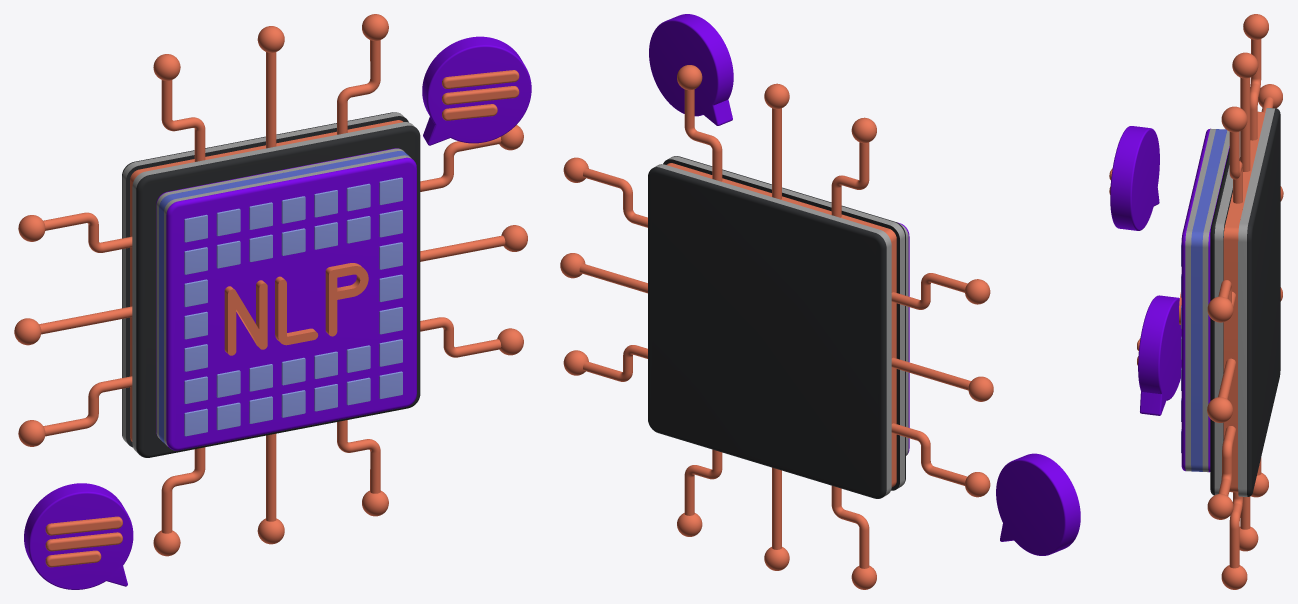
The model's file is natural-language-processing-3d-animated-icon-616079803988.glb.
The picture shows the model from 3 angles, left to right: view 1: azimuth 30°, elevation 25°; view 2: azimuth 150°, elevation 25°; view 3: azimuth 270°, elevation 25°; orthographic projection. The views are drawn at different scales.
Visible parts, largest first — view 1: Cube.003, Cube, Pin, Cube.002, Cylinder.003, Cylinder.001, Curve.001, Cube.005, Cube.024, Cube.004, Cube.023, Cube.001 (+1 smaller); view 2: Cube, Pin, Cylinder.001, Cylinder.003, Cube.003; view 3: Cube, Pin, Cube.003, Cylinder.003, Cylinder.001.
Part boxes in pixels (x1=…): Cube.003: x1=156, y1=148, x2=416, y2=450; Cube: x1=122, y1=112, x2=420, y2=457; Pin: x1=14, y1=14, x2=527, y2=556; Cube.002: x1=184, y1=177, x2=402, y2=436; Cylinder.003: x1=422, y1=36, x2=531, y2=145; Cylinder.001: x1=24, y1=483, x2=133, y2=589; Curve.001: x1=224, y1=263, x2=368, y2=355; Cube.005: x1=45, y1=516, x2=122, y2=535; Cube.024: x1=442, y1=70, x2=519, y2=88; Cube.004: x1=45, y1=532, x2=122, y2=551; Cube.023: x1=442, y1=86, x2=519, y2=104; Cube.001: x1=45, y1=550, x2=101, y2=567; Cube: x1=648, y1=156, x2=905, y2=498; Pin: x1=560, y1=65, x2=993, y2=589; Cylinder.001: x1=996, y1=453, x2=1080, y2=555; Cylinder.003: x1=649, y1=14, x2=733, y2=125; Cube.003: x1=898, y1=222, x2=909, y2=455; Cube: x1=1210, y1=108, x2=1280, y2=496; Pin: x1=1207, y1=14, x2=1283, y2=589; Cube.003: x1=1181, y1=128, x2=1229, y2=472; Cylinder.003: x1=1110, y1=126, x2=1159, y2=230; Cylinder.001: x1=1138, y1=295, x2=1181, y2=415.
Bounding box in the file's own units: 0.5819 × 0.547 × 0.1738.
